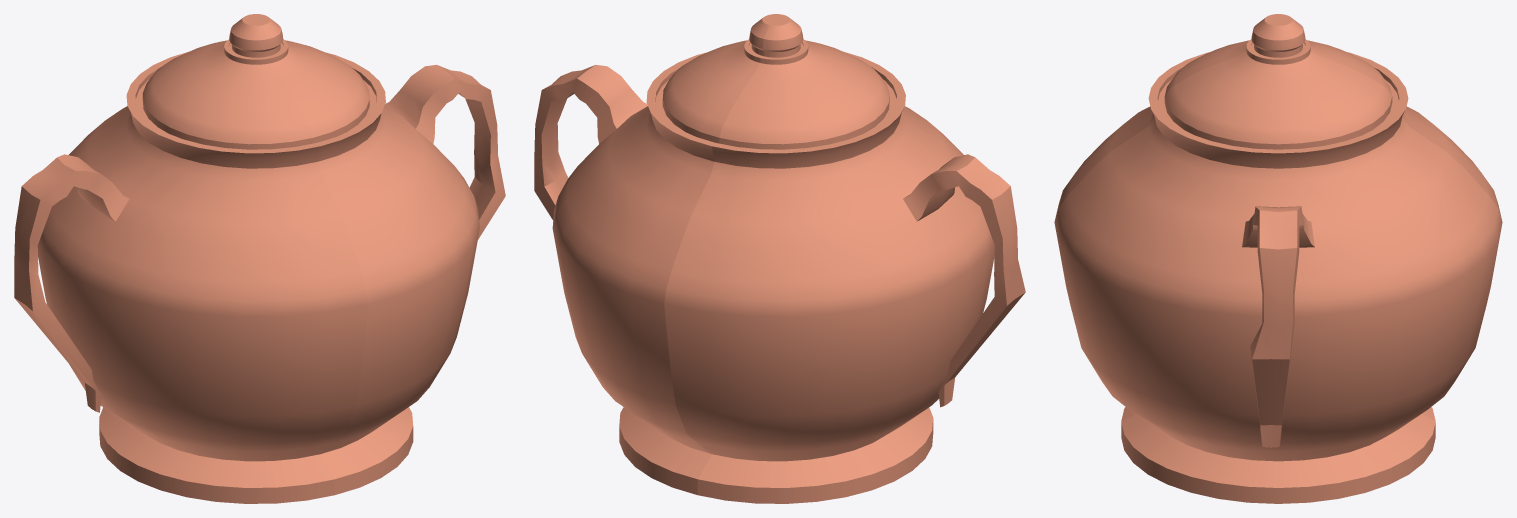
File: sugar shump asset.fbx
3 views of the same model, side by side, from view 1: azimuth 30°, elevation 25°; view 2: azimuth 150°, elevation 25°; view 3: azimuth 270°, elevation 25° (orthographic).
Parts seen in each view (by area): view 1: sugar pot; view 2: sugar pot; view 3: sugar pot.
Boxes of the visible parts, <box> form: sugar pot: <box>14,14,505,503</box>; sugar pot: <box>534,14,1025,503</box>; sugar pot: <box>1054,14,1502,503</box>.
Bounding box in the file's own units: 137 × 116 × 112.
